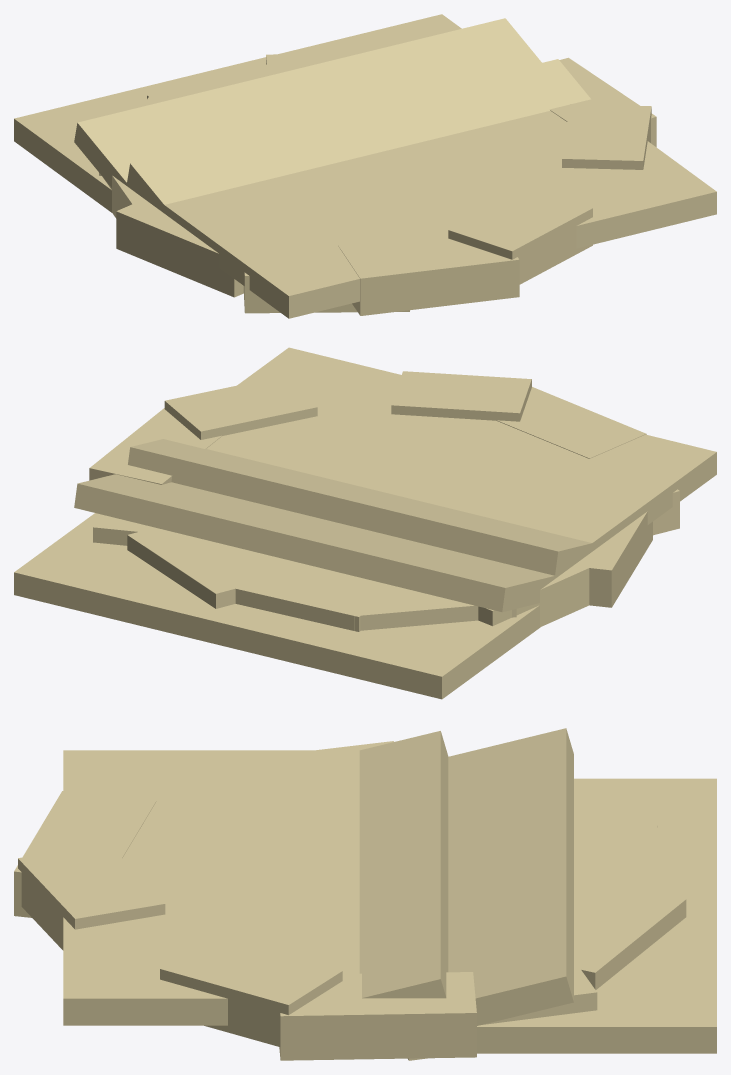
File: ceiling.fbx
The picture shows the model from 3 angles, top to bottom: view 1: azimuth 30°, elevation 25°; view 2: azimuth 150°, elevation 25°; view 3: azimuth 270°, elevation 25°; orthographic projection. The views are drawn at different scales.
Visible parts, largest first — view 1: tavan; view 2: tavan; view 3: tavan.
Part boxes in pixels (bbox=[...]): tavan: bbox=[14, 14, 716, 318]; tavan: bbox=[14, 347, 716, 699]; tavan: bbox=[14, 728, 716, 1060].
Bounding box in the file's own units: 243 × 30.59 × 252.
